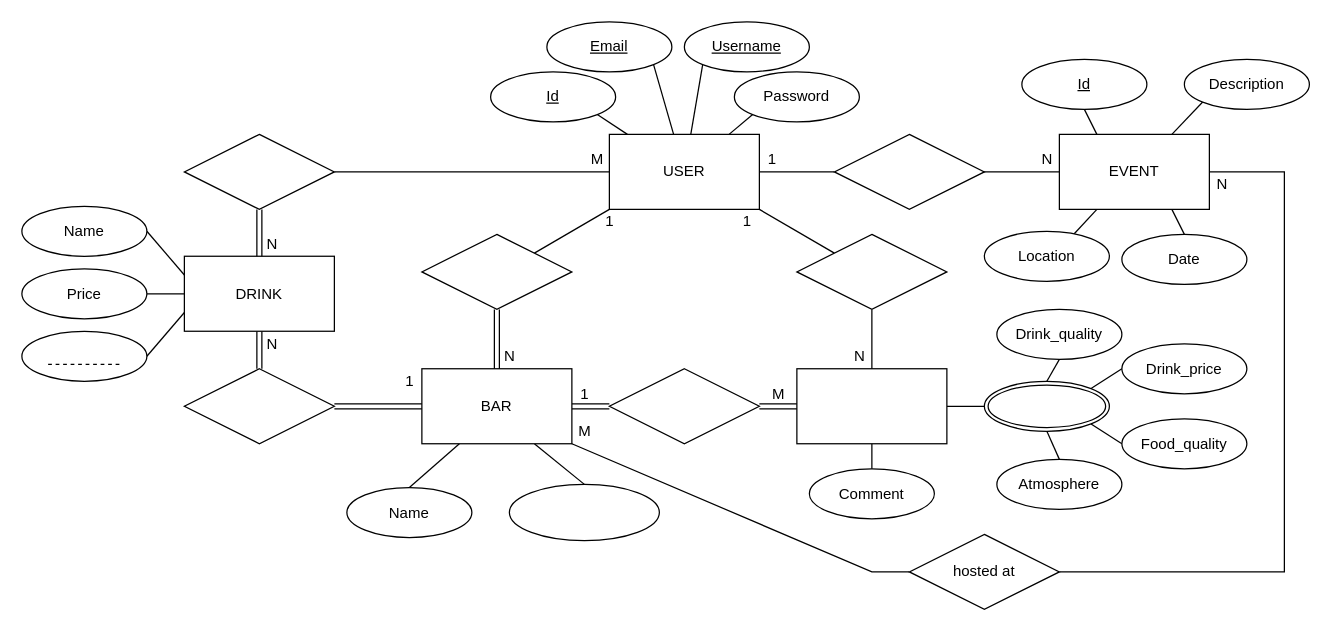
Some shapes in this 1331 by 631 pixel diagram are drawn without their labels. Here are the shapes that lost their labels. From the top down, the centre of each, then its label:
At point 258,171: "adds".
At point 908,171: "creates".
At point 496,271: "views".
At point 871,271: "edits".
At point 84,355: "Bar-adress".
At point 258,406: "shows".
At point 683,406: "has".
At point 871,406: "REVIEW".
At point 1046,405: "Rating".
At point 583,512: "Adress from Google".
